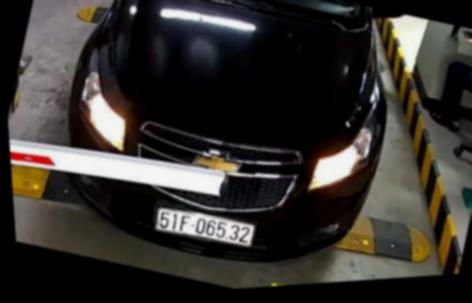License_Plate: (154, 200, 258, 253)
